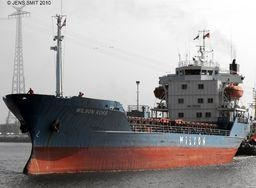Cargoship: (1, 30, 252, 176)
